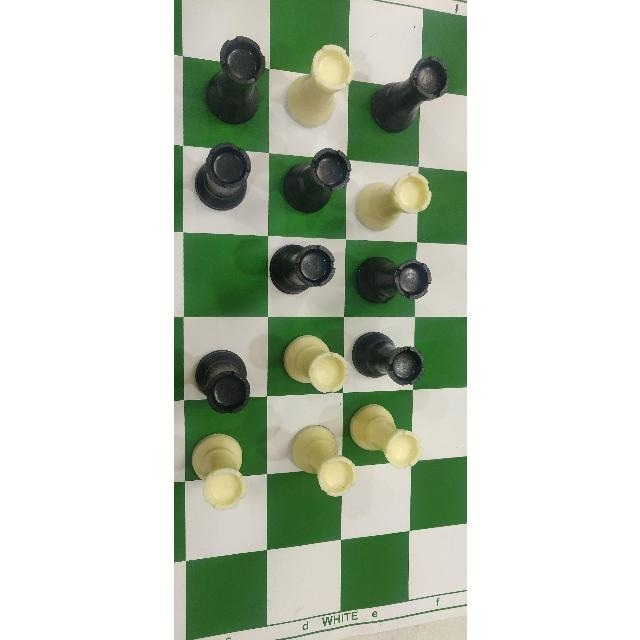black-rook: (283, 141, 355, 228), (202, 29, 261, 134), (383, 53, 453, 133), (356, 327, 426, 393), (188, 348, 256, 415), (271, 236, 336, 306), (359, 252, 430, 310), (195, 142, 252, 212)
white-rook: (278, 43, 356, 125), (276, 428, 351, 510), (189, 423, 257, 509), (358, 163, 433, 234), (272, 332, 348, 401), (356, 401, 425, 477)
